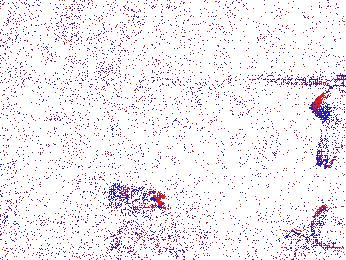flame jellyfish: (286, 204, 346, 249), (315, 84, 346, 169), (108, 183, 164, 225)
